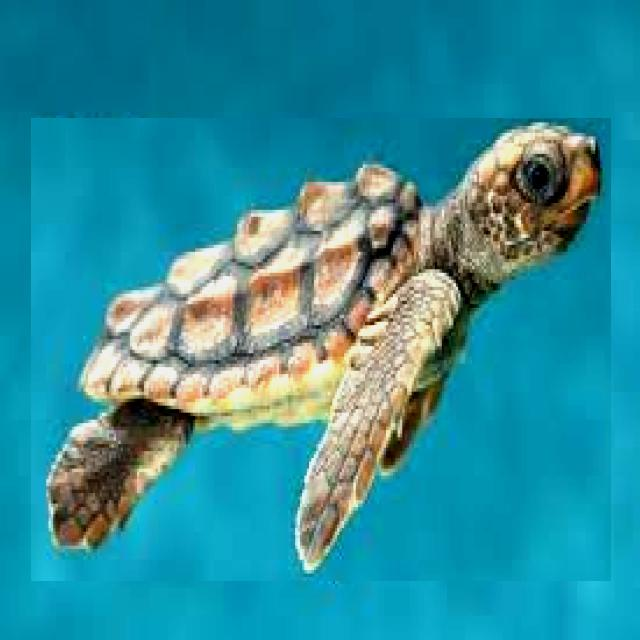Sea turtle: (31, 118, 611, 581)
